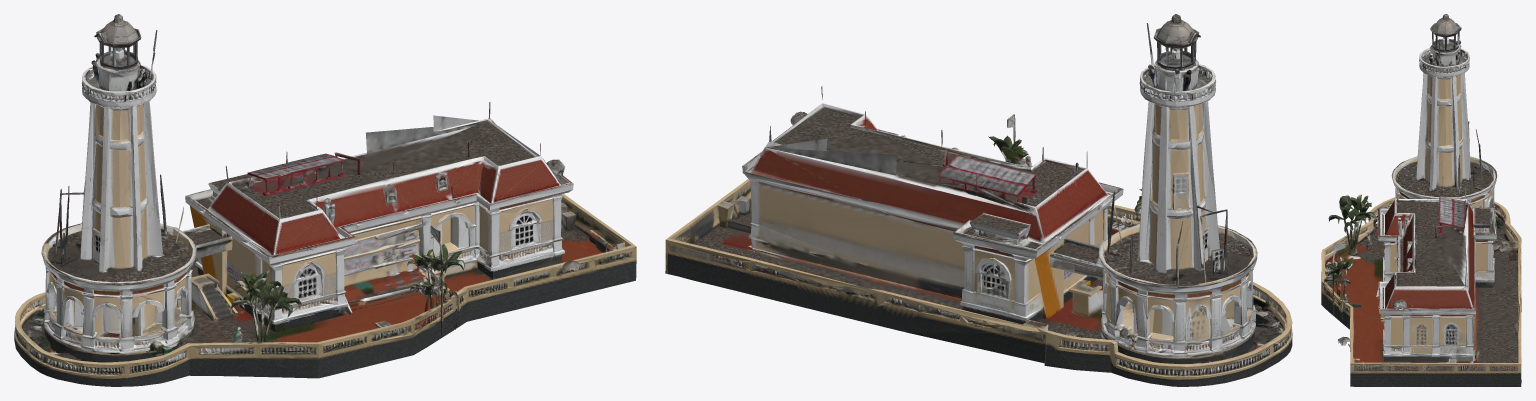
File: hai_dang_vinh_thuc_raw.glb
3 renders of one model, left to right at view 1: azimuth 30°, elevation 25°; view 2: azimuth 150°, elevation 25°; view 3: azimuth 270°, elevation 25°, orthographic. The views are drawn at different scales.
Visible parts, largest first — view 1: Mesh_0; view 2: Mesh_0; view 3: Mesh_0.
Part boxes in pixels (box(x1,y1,x2,y2)): Mesh_0: box(14, 14, 636, 386); Mesh_0: box(665, 14, 1292, 386); Mesh_0: box(1321, 14, 1521, 386).
Bounding box in the file's own units: 1.88 × 1.07 × 0.8741.
Materials: 1 (1 with a texture image).
